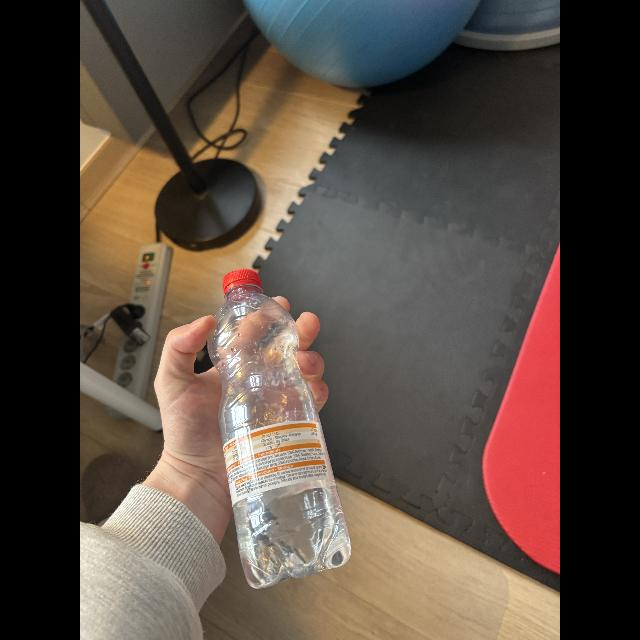Plastic: (215, 266, 368, 598)
